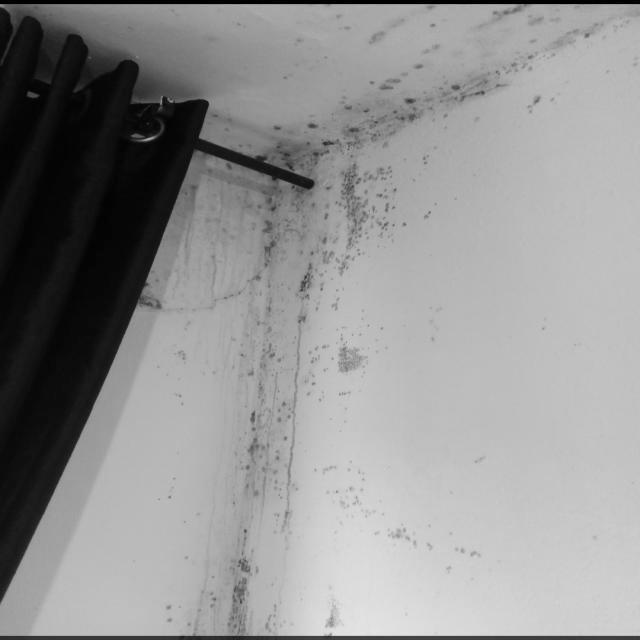stain marks: (150, 4, 638, 634)
